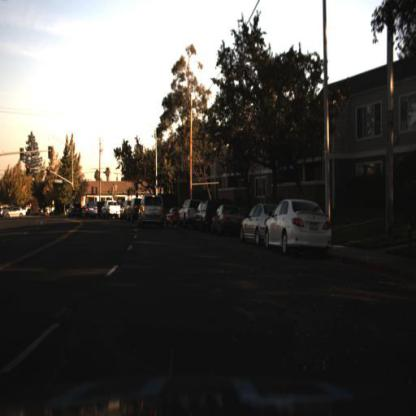car: (264, 191, 341, 257), (208, 202, 244, 236), (240, 198, 264, 247), (214, 204, 243, 240), (140, 192, 166, 228), (190, 201, 215, 233), (175, 196, 195, 232), (176, 198, 198, 228), (193, 200, 213, 233), (162, 199, 178, 228), (77, 198, 99, 219), (81, 200, 102, 221), (100, 199, 120, 219), (102, 199, 120, 221), (65, 198, 83, 218), (67, 197, 83, 219), (128, 197, 140, 221), (119, 201, 130, 219)
trafficLight-Red: (24, 159, 32, 175), (44, 163, 52, 177), (70, 186, 76, 198)
